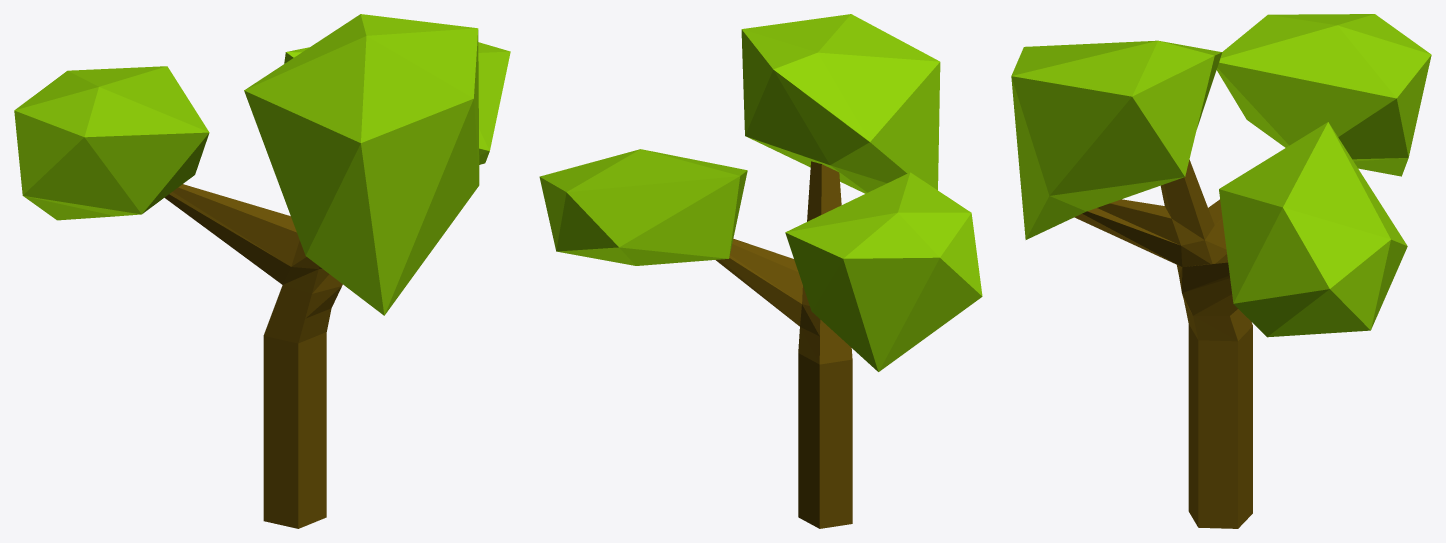
The model's file is tree.dae.
The picture shows the model from 3 angles, left to right: view 1: azimuth 30°, elevation 25°; view 2: azimuth 150°, elevation 25°; view 3: azimuth 270°, elevation 25°; orthographic projection. The views are drawn at different scales.
Parts seen in each view (by area): view 1: leaf2, leaf3, Tree_001, leaf1; view 2: leaf2, leaf3, leaf1, Tree_001; view 3: leaf2, leaf1, leaf3, Tree_001.
Boxes of the visible parts, box(x1,y1,x2,y2) form: leaf2: box(244, 14, 479, 315); leaf3: box(14, 66, 209, 220); Tree_001: box(164, 184, 342, 528); leaf1: box(284, 42, 510, 164); leaf2: box(741, 14, 940, 193); leaf3: box(785, 172, 982, 371); leaf1: box(539, 149, 747, 265); Tree_001: box(716, 161, 852, 528); leaf2: box(1011, 40, 1222, 239); leaf1: box(1219, 122, 1407, 337); leaf3: box(1216, 14, 1431, 176); Tree_001: box(1074, 159, 1252, 528).
Bounding box in the file's own units: 2.22 × 1.62 × 2.11.
